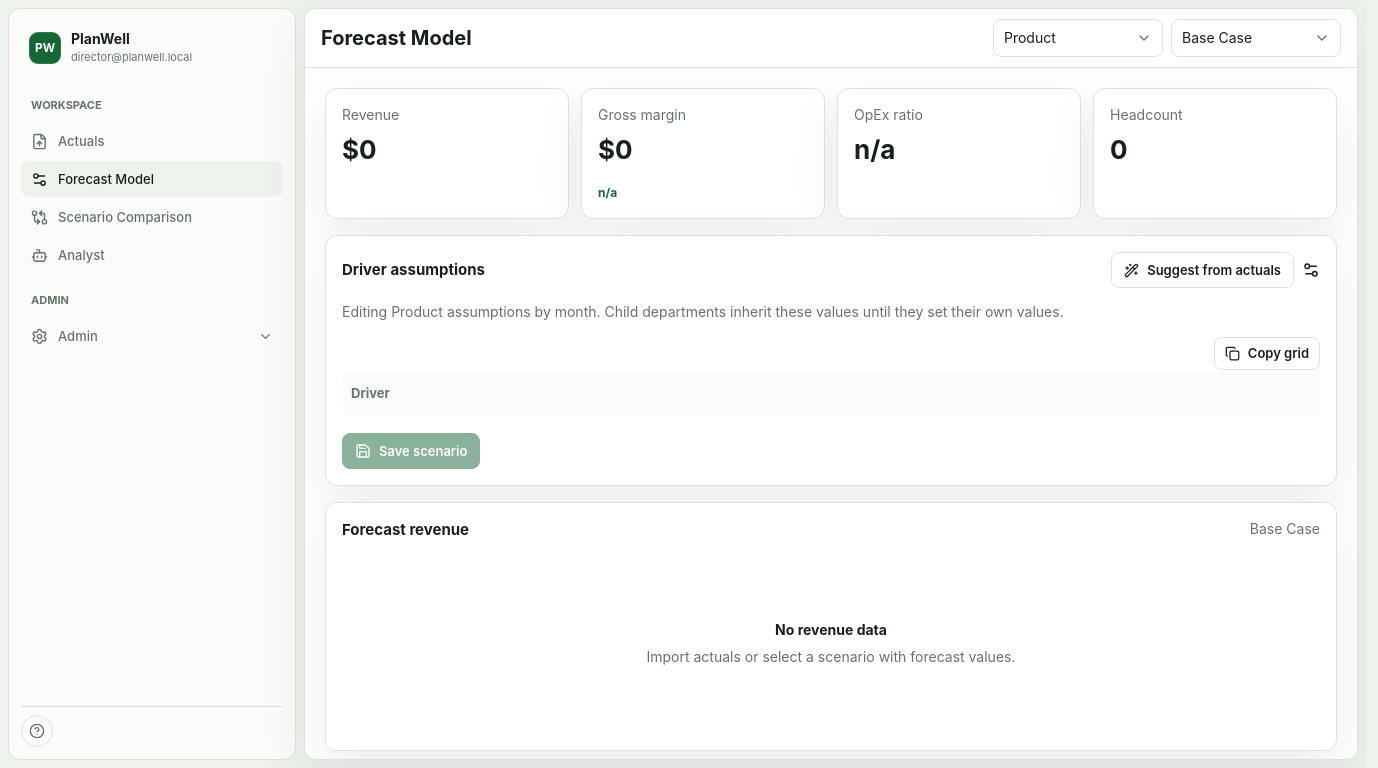
Test case: PlanWell workbench UI › hides the compare selector on Forecast Model and shows it on comparison pages
This screenshot has width=1378, height=768.
Click the button "Forecast Model": (152, 179) [21,161,283,197]
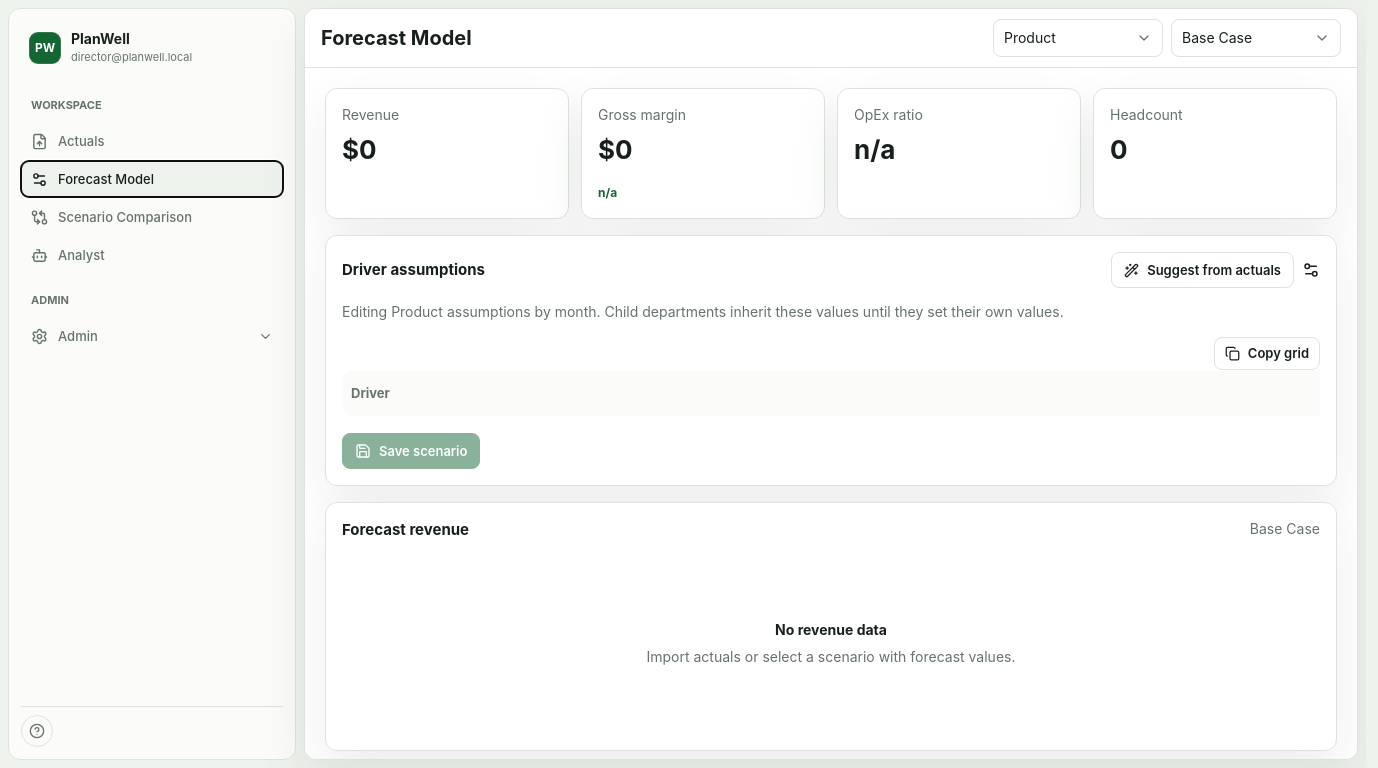
Check: the heading "Driver assumptions" is shown, box [342,261,485,279]
Check: the dropdown named "Primary scenario" is shown, box [1171,19,1341,57]
Click the dropdown named "forecast department": (1078, 38) [993,19,1163,57]
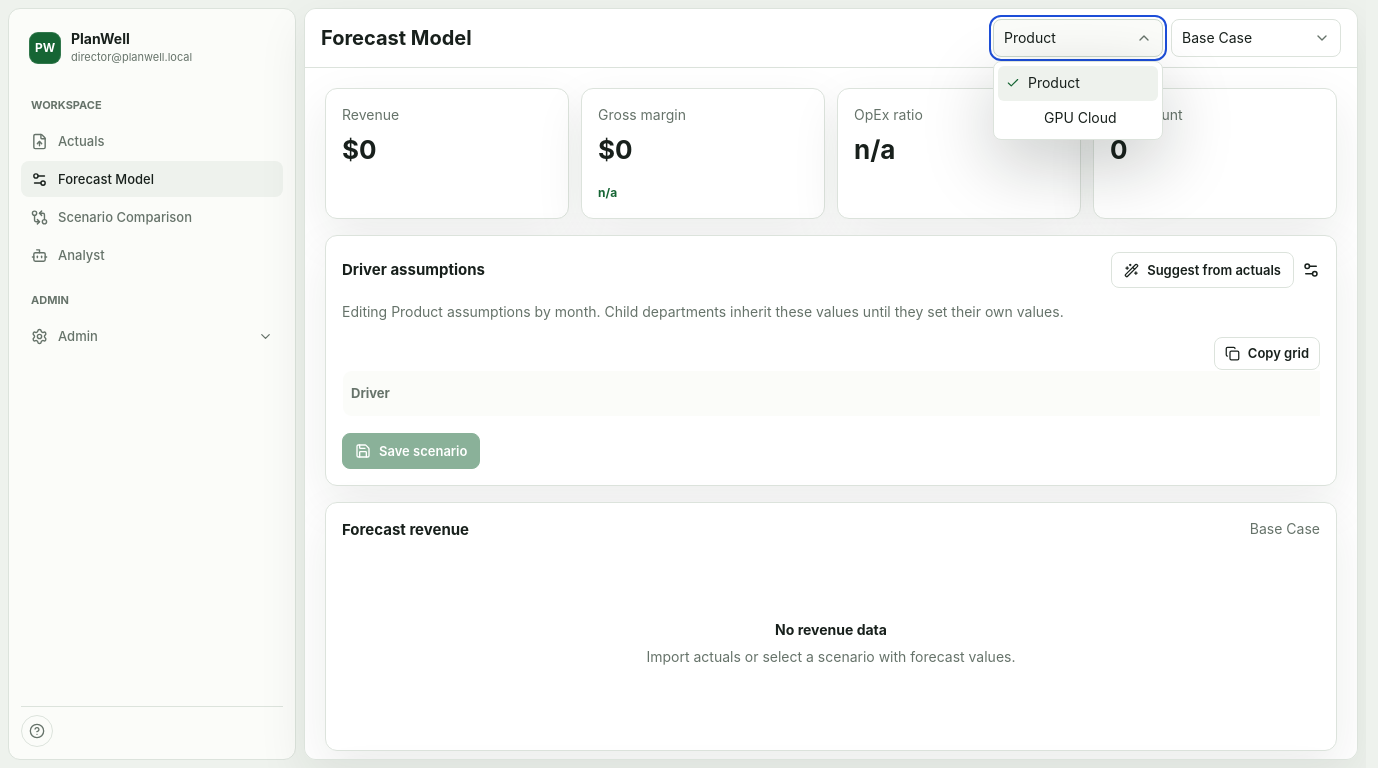
Click the button "Scenario Comparison": (152, 217) [21,199,283,235]
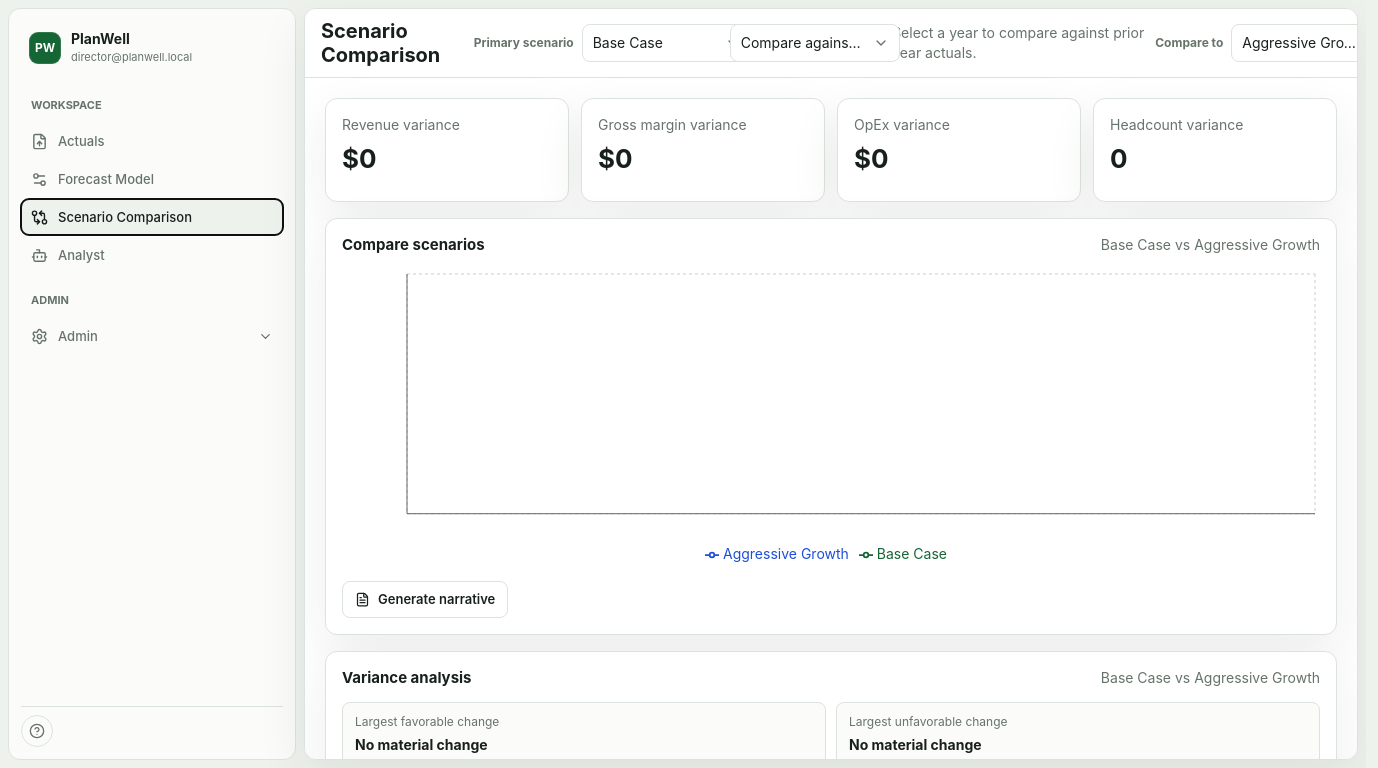
Check: the text "Compare to" is shown, box [1155,34,1223,52]
Check: the number of labels with class "inline-selector" is 3, box [474,24,682,62]; [690,24,884,62]; [1155,24,1341,62]
